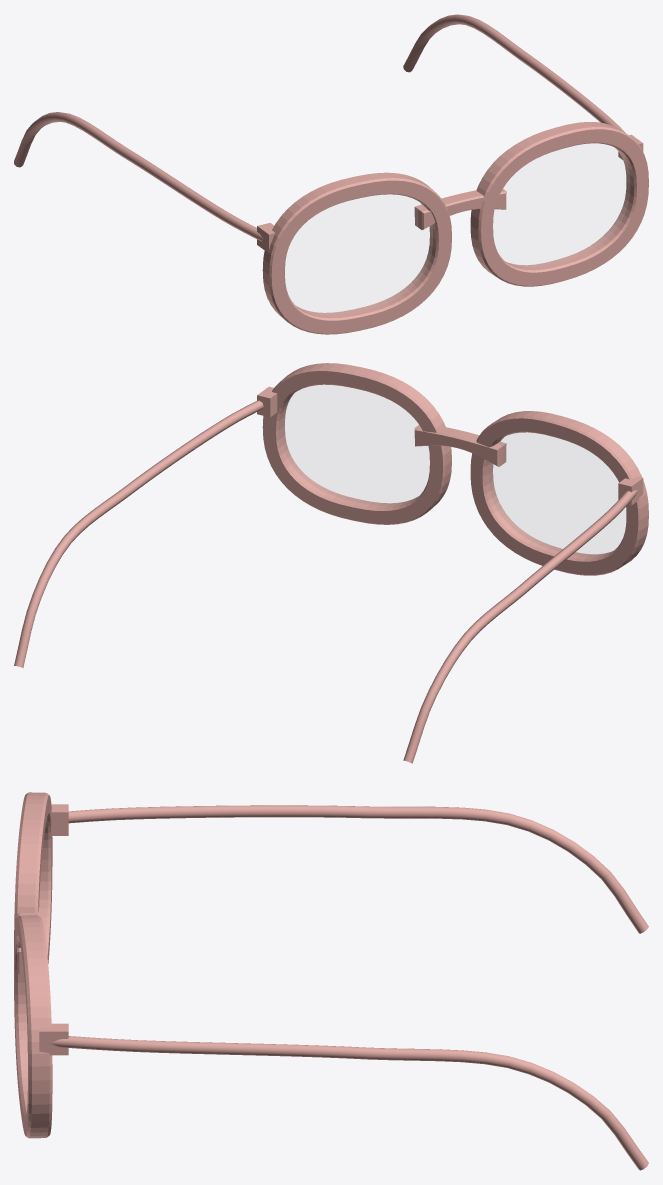
File: NY-W06_Rhea_Blush_pink.glb
3 renders of one model, top to bottom at view 1: azimuth 30°, elevation 25°; view 2: azimuth 150°, elevation 25°; view 3: azimuth 270°, elevation 25°, orthographic. The views are drawn at different scales.
Parts seen in each view (by area): view 1: Rhea_Blush_pink_Acetate, Rhea_Blush_pink_Lenses; view 2: Rhea_Blush_pink_Acetate, Rhea_Blush_pink_Lenses; view 3: Rhea_Blush_pink_Acetate.
Part boxes in pixels (x1=…): Rhea_Blush_pink_Acetate: x1=14, y1=14, x2=648, y2=334; Rhea_Blush_pink_Lenses: x1=285, y1=144, x2=629, y2=314; Rhea_Blush_pink_Acetate: x1=14, y1=363, x2=648, y2=763; Rhea_Blush_pink_Lenses: x1=282, y1=385, x2=625, y2=555; Rhea_Blush_pink_Acetate: x1=14, y1=792, x2=648, y2=1170.
Size of the model in its own units: 0.1394 by 0.0484 by 0.1507.
